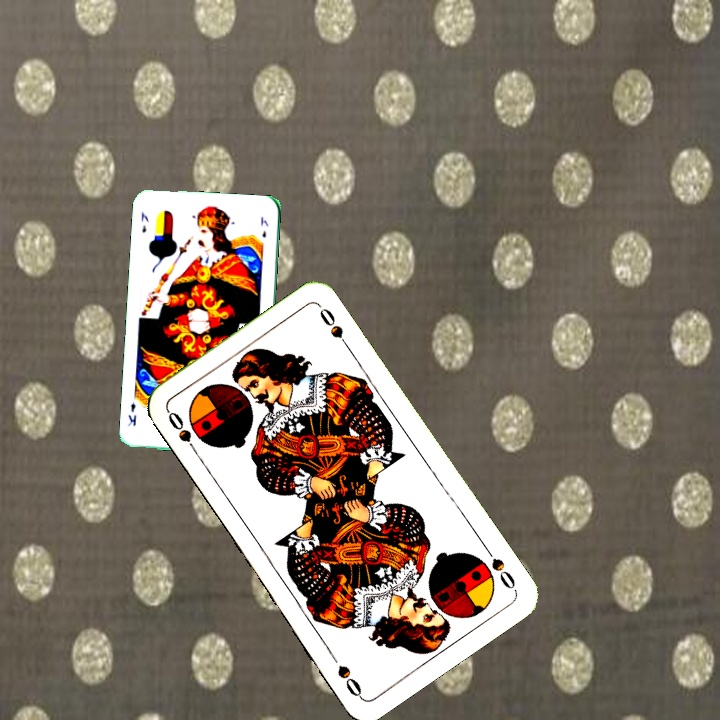EK: (137, 208, 151, 235)
SO: (480, 541, 519, 593), (164, 407, 202, 459)
